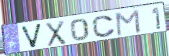0: (69, 18, 91, 42)
1: (151, 7, 162, 31)
C: (92, 15, 118, 39)
M: (116, 8, 143, 37)
V: (19, 23, 43, 49)
X: (45, 19, 67, 48)
